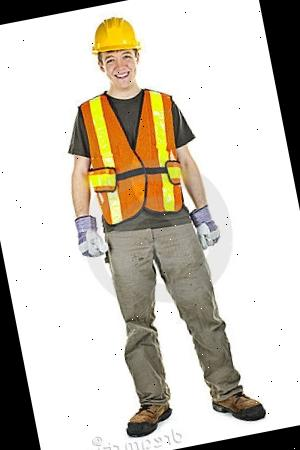helmet: (85, 12, 144, 62)
wear: (74, 82, 194, 238)
